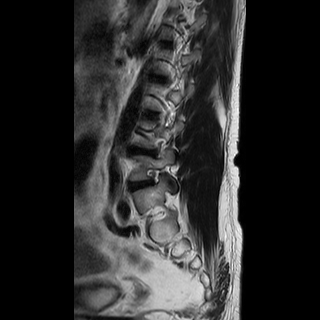LFS0: (140, 162, 165, 190)
